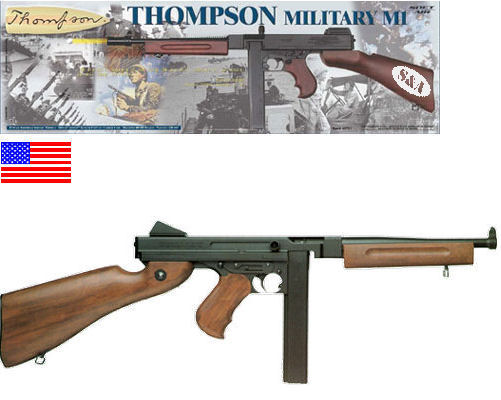rifle: (3, 227, 497, 378), (7, 32, 440, 127)
